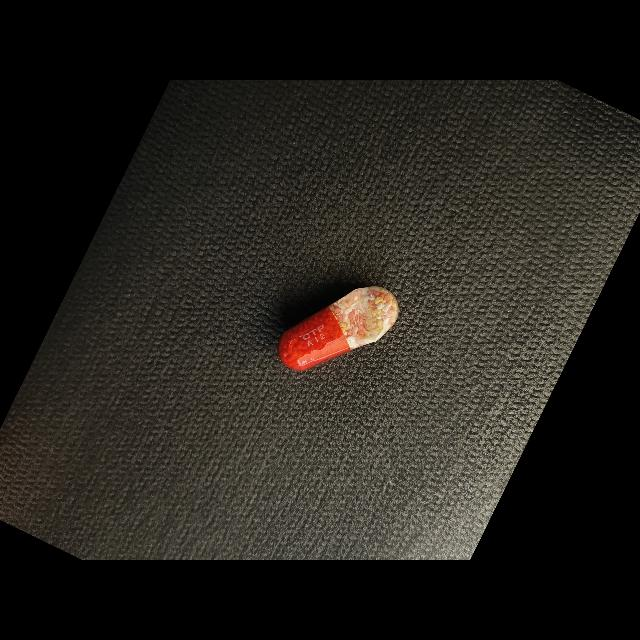Defective Capsule: (278, 286, 399, 371)
